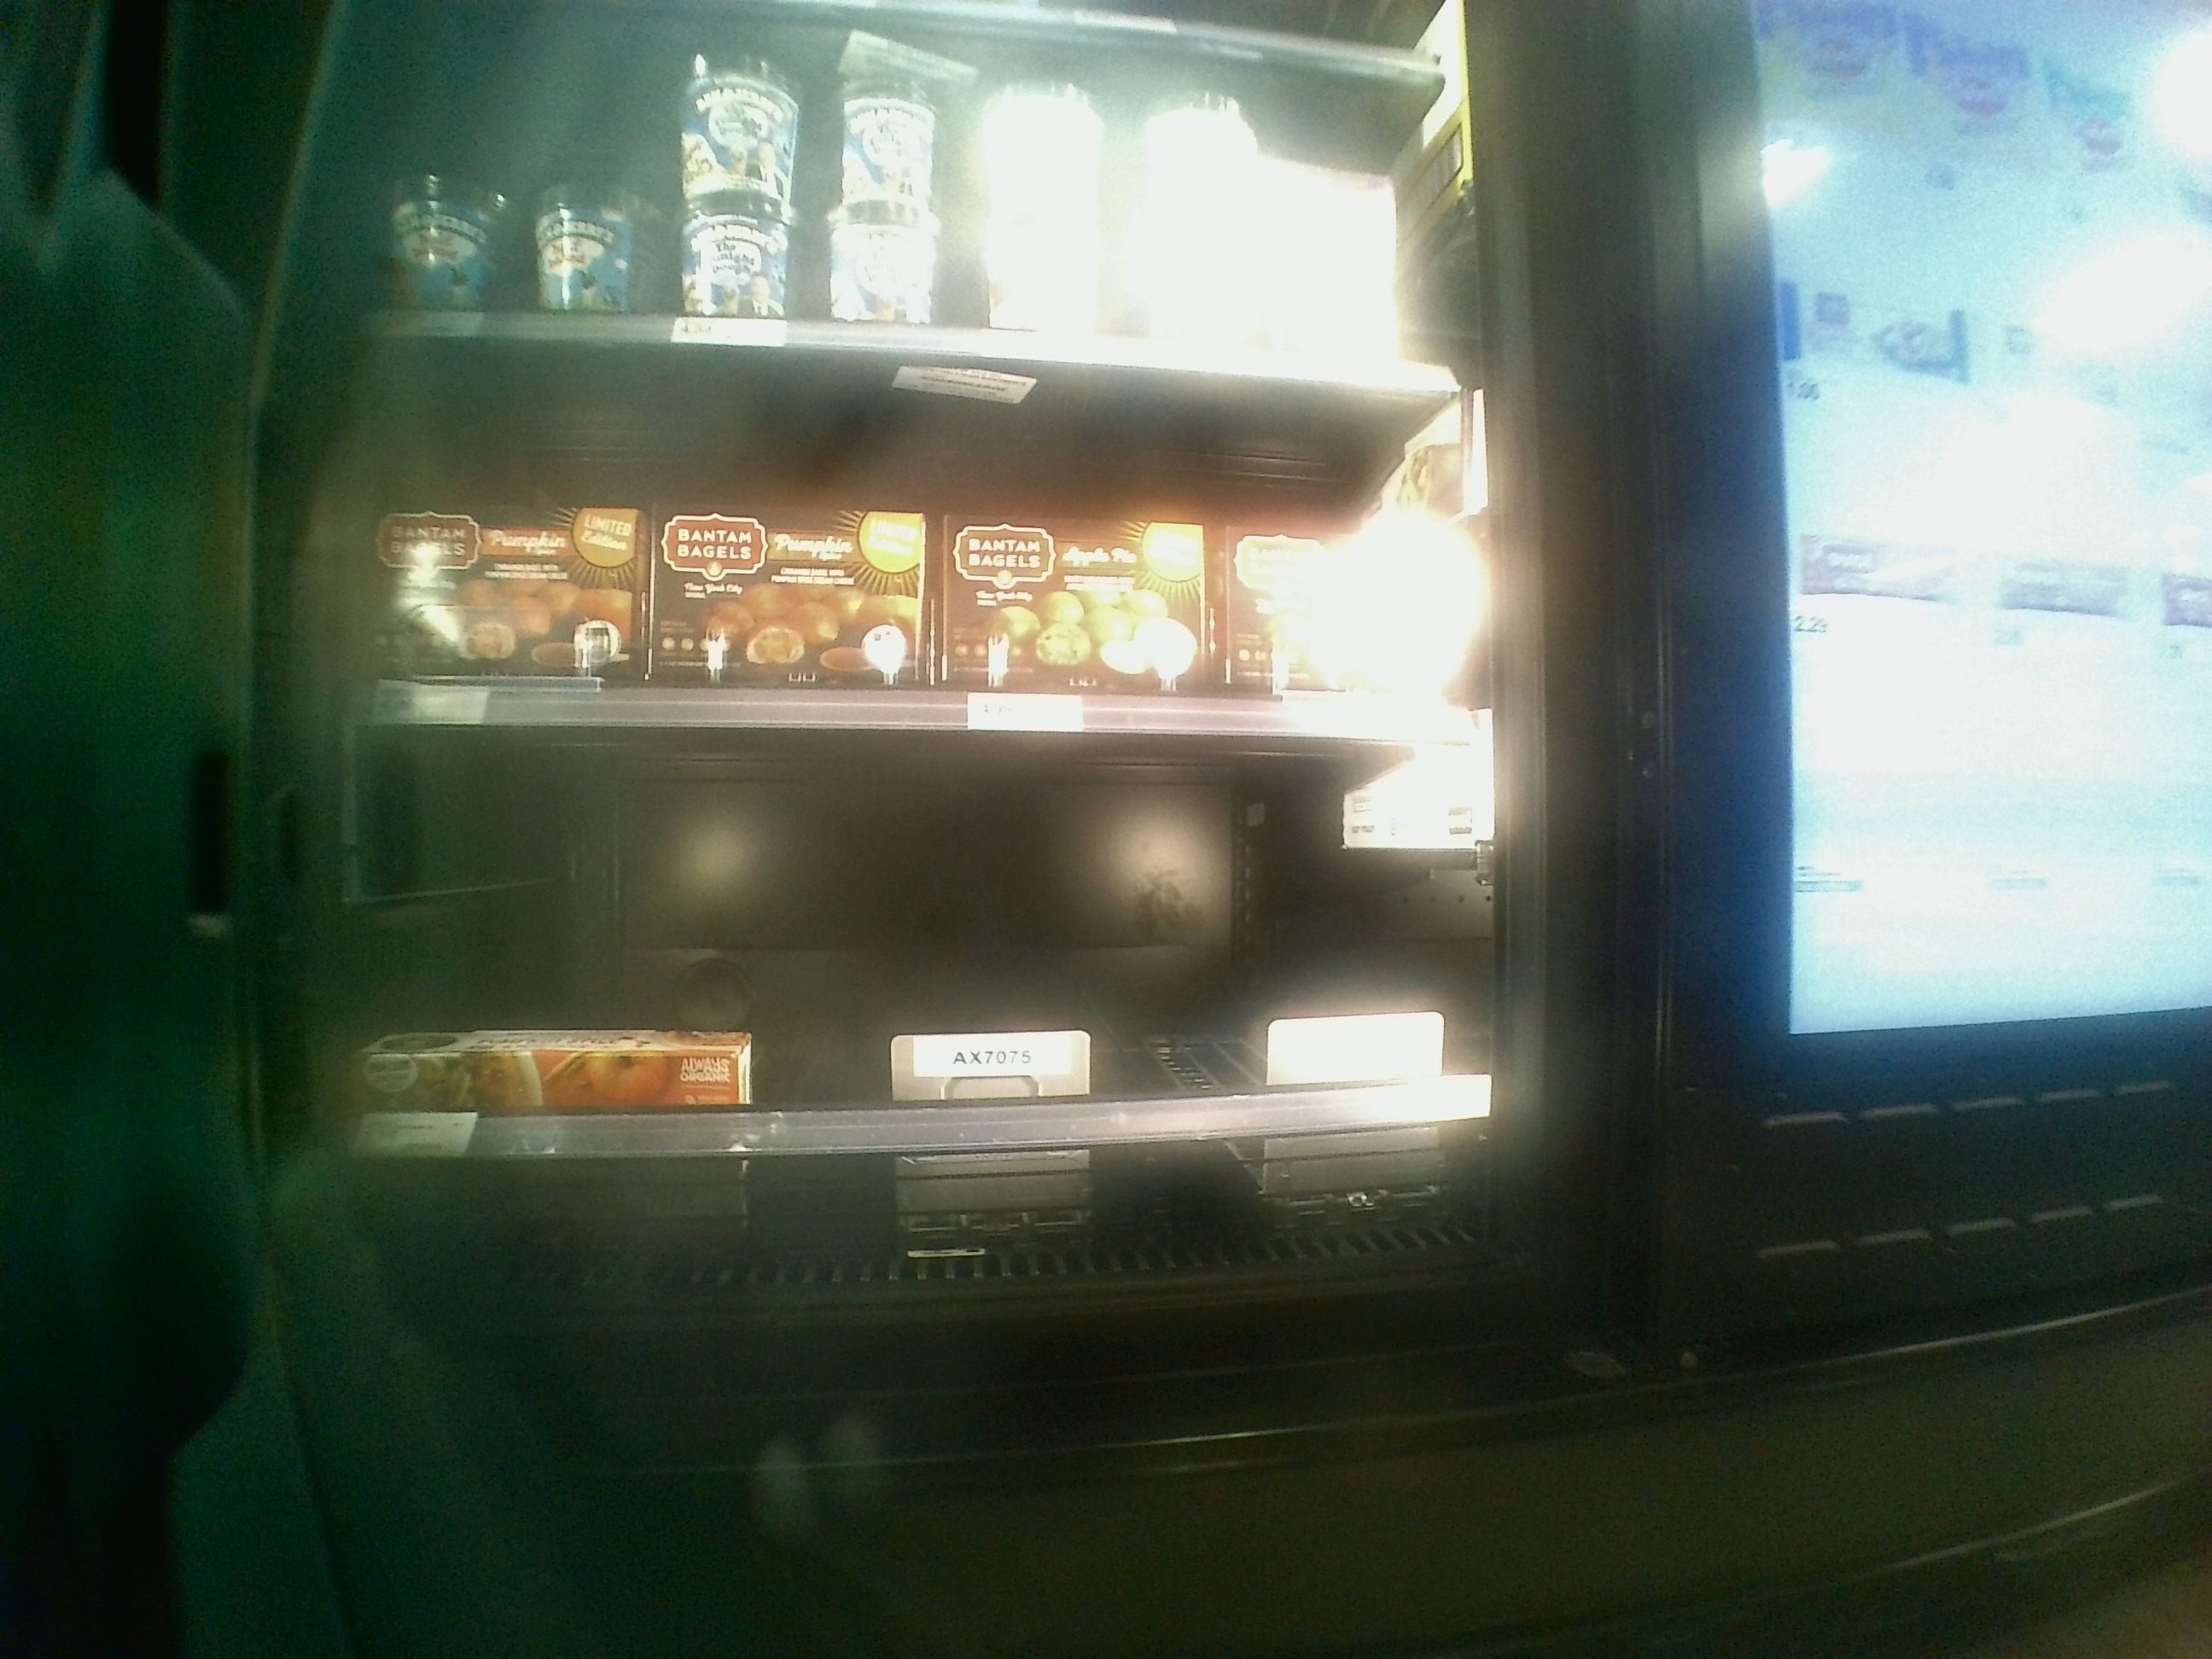shelf: (350, 699, 1479, 1105), (387, 321, 1479, 727)
